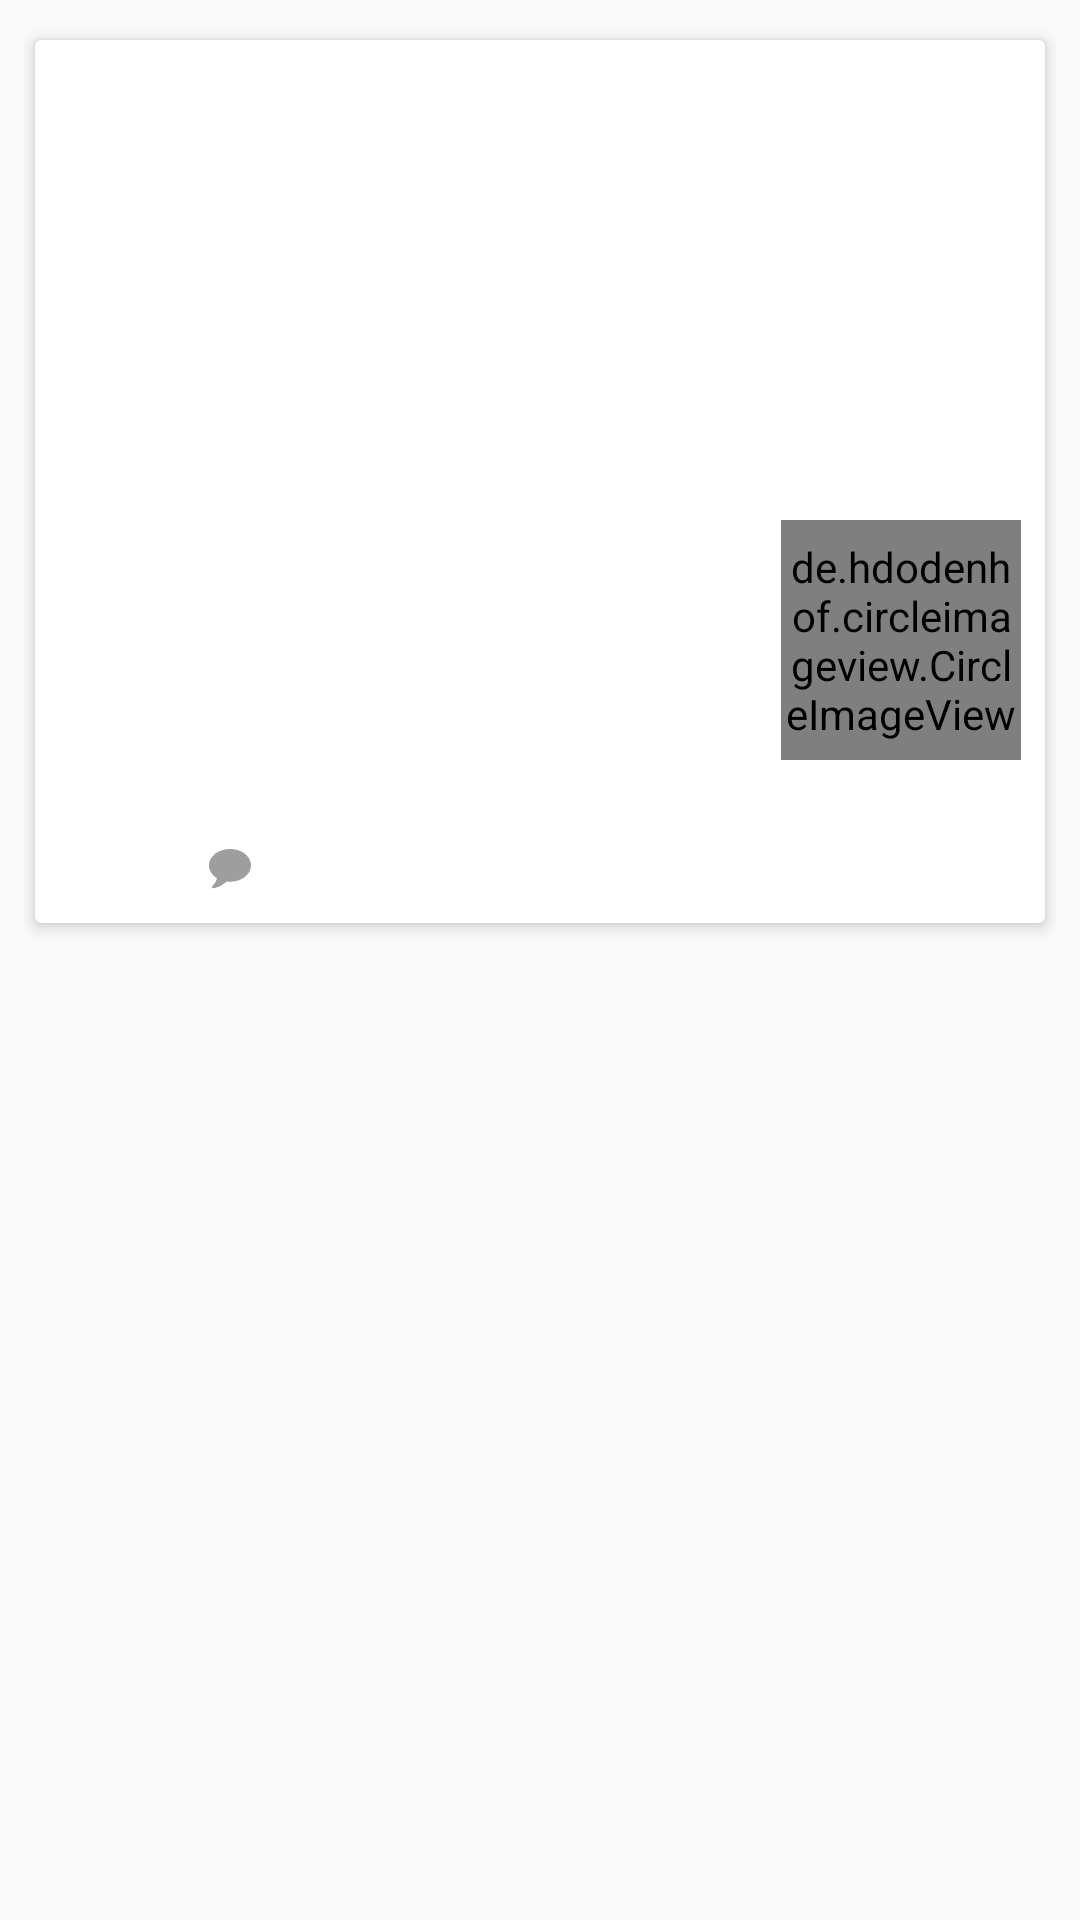

Screen size 1080px×1920px. Icon name, then its box in pixels as region(x1, y1, x2, y2):
comments: region(209, 849, 251, 888)
